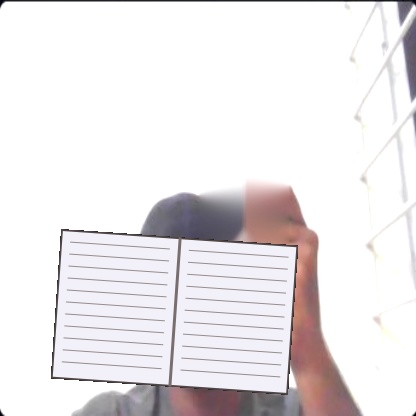book: (51, 229, 298, 395)
